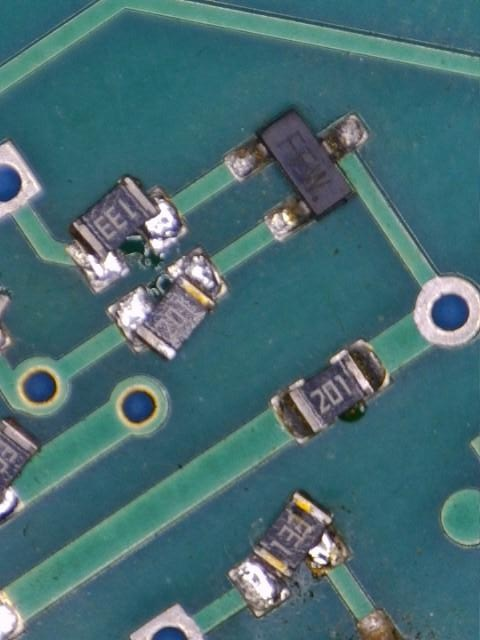pcb_defect: (226, 489, 354, 619), (63, 174, 191, 295), (108, 246, 231, 361), (0, 417, 40, 525)
